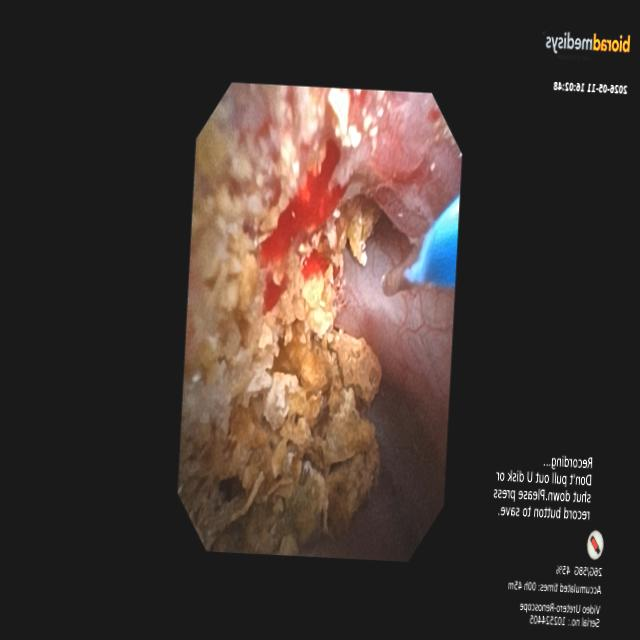laser-fibre: (382, 247, 418, 296)
stone-new: (178, 184, 381, 553)
